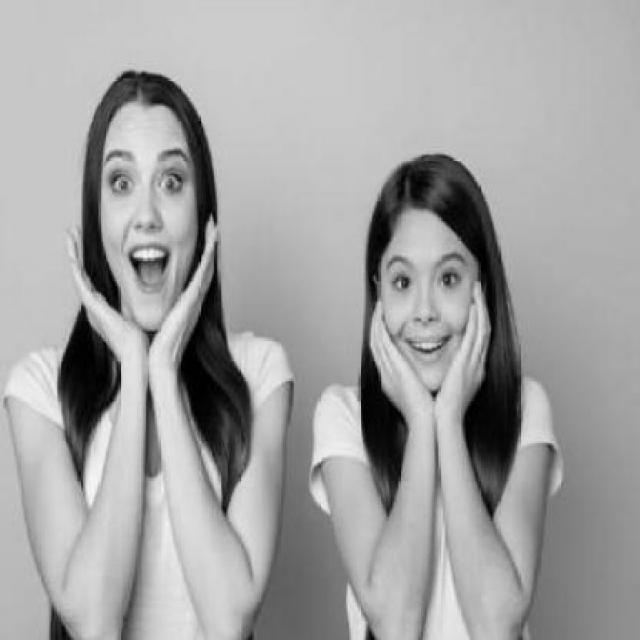happy: (390, 242, 472, 373)
